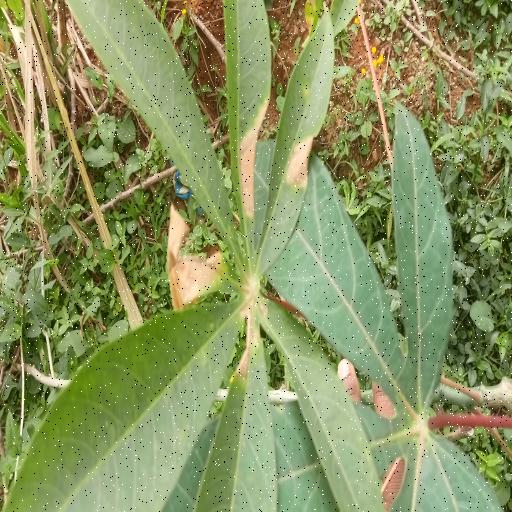Cassava_Root_Rot: (13, 0, 378, 512)
